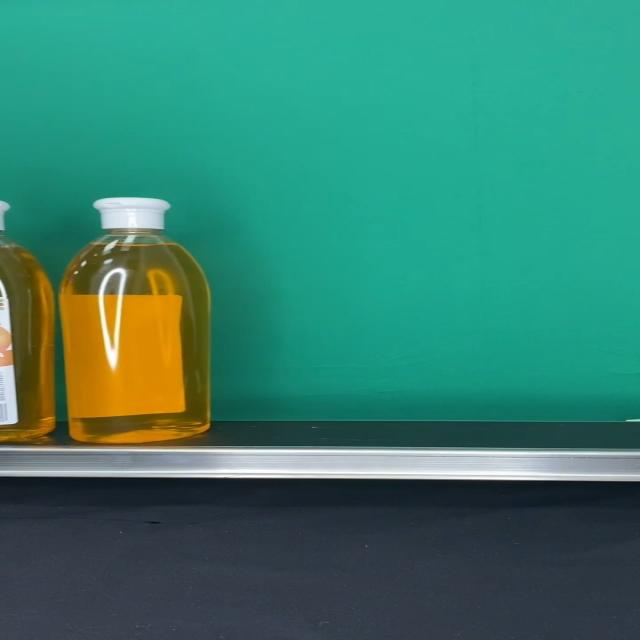Bottle: (60, 197, 210, 443)
Cap: (91, 198, 170, 230)
